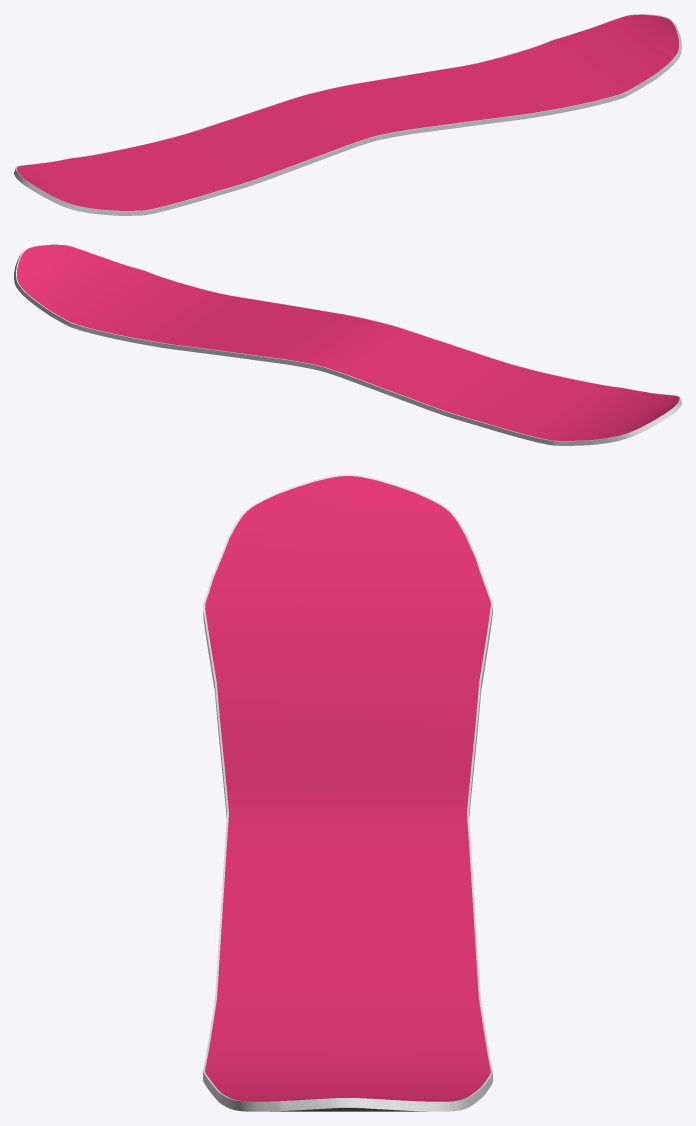
Rendered from board_twin-tip-2_hybrid-camber.gltf.
3 renders of one model, top to bottom at view 1: azimuth 30°, elevation 25°; view 2: azimuth 150°, elevation 25°; view 3: azimuth 270°, elevation 25°, orthographic. The views are drawn at different scales.
Parts seen in each view (by area): view 1: board-top, board-edge; view 2: board-top, board-edge; view 3: board-top, board-edge.
Boxes of the visible parts, x1=… form: board-top: x1=16, y1=14, x2=678, y2=210; board-edge: x1=14, y1=14, x2=681, y2=215; board-top: x1=17, y1=244, x2=679, y2=440; board-edge: x1=14, y1=244, x2=681, y2=445; board-top: x1=205, y1=476, x2=490, y2=1101; board-edge: x1=203, y1=474, x2=492, y2=1111.
Size of the model in its own units: 1.51 by 0.076 by 0.2923.
